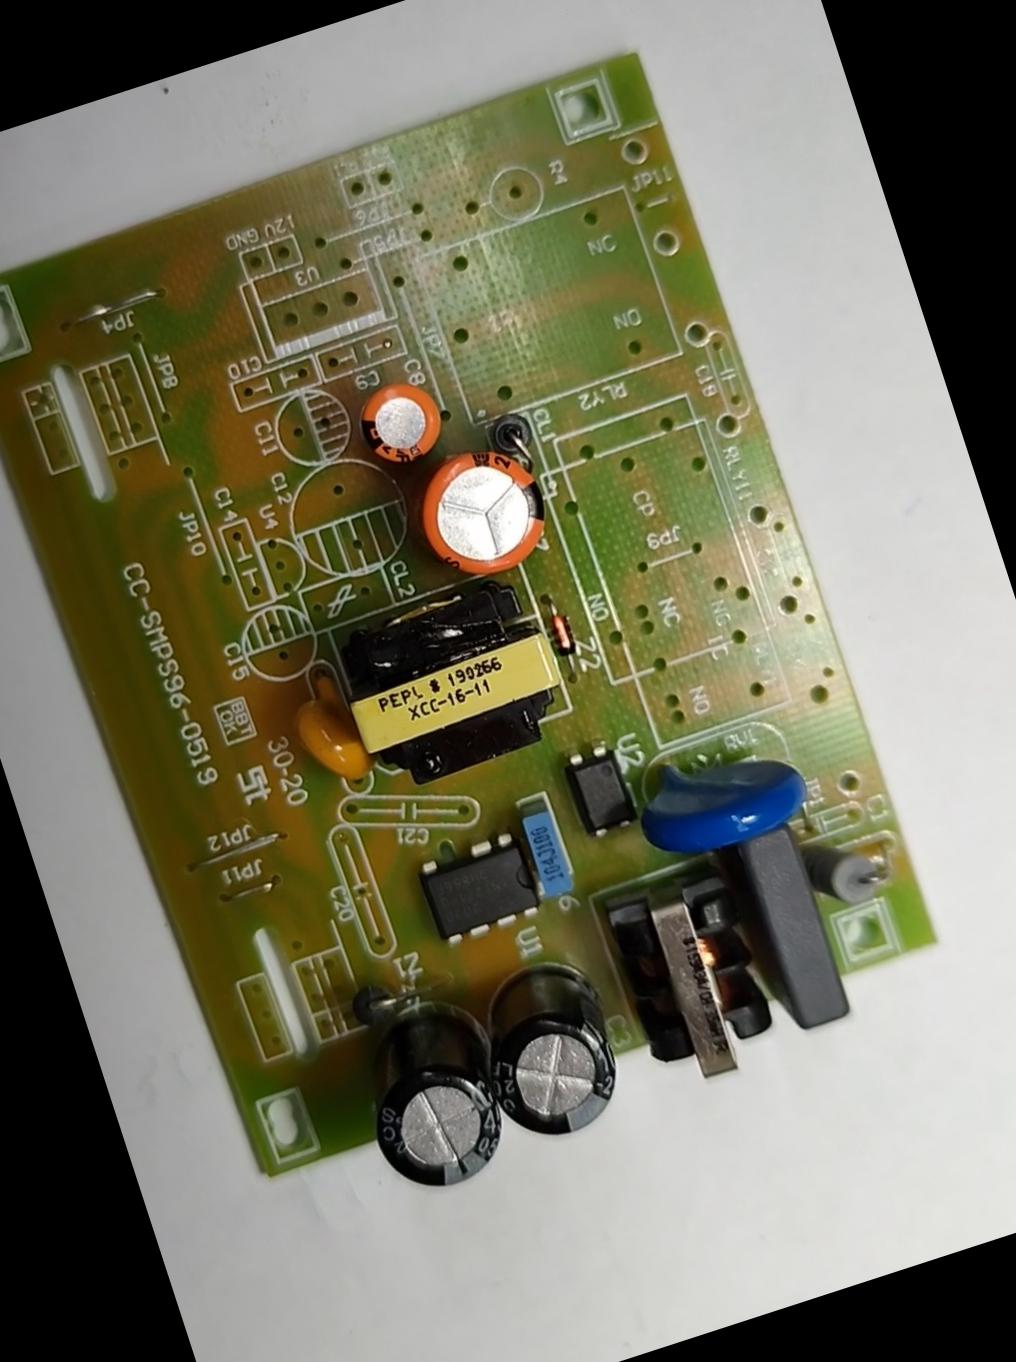Cap1: (399, 424, 566, 596)
Cap2: (354, 367, 453, 470)
Cap3: (460, 950, 636, 1156)
Cap4: (338, 983, 519, 1203)
MOSFET: (411, 821, 547, 950)
Mov: (616, 710, 822, 876)
Resistor: (794, 812, 894, 913)
Transformer: (321, 577, 575, 799), (596, 852, 796, 1097)
